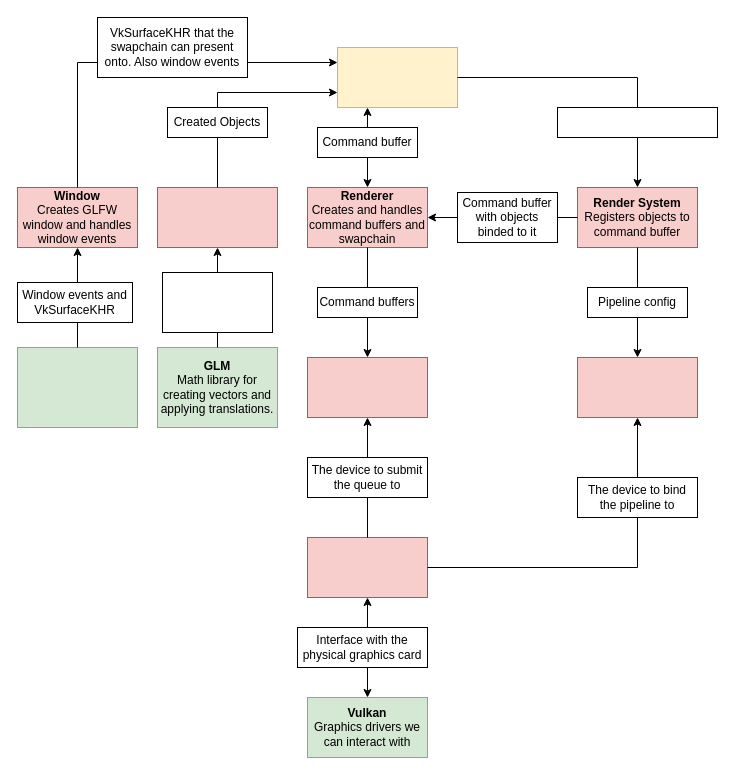
Image size: 735x775. Some labels were removed from this diagram. The centre of each missing label's shape, as x and y in pixels:
Command buffer and objects: (x=637, y=122)
Device Handles the vulkan logical and physical device: (x=367, y=567)
Engine: (x=397, y=77)
GLFW Handles user input and creation of a surface we can render onto: (x=77, y=387)
Object Anything with verticies that wants to be displayed: (x=217, y=217)
Pipeline Declares the graphics stages as defined in the vulkan sdk: (x=637, y=387)
Swapchain Handles what frame is presented and which is rendering: (x=367, y=387)
Transformation and position data of objects: (x=217, y=302)
